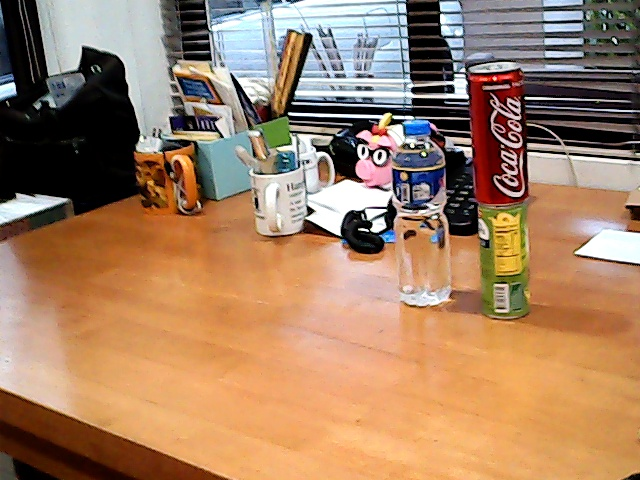Cola: (456, 56, 532, 205)
Pine Juice: (474, 194, 541, 320)
Summit Water: (382, 113, 459, 310)
